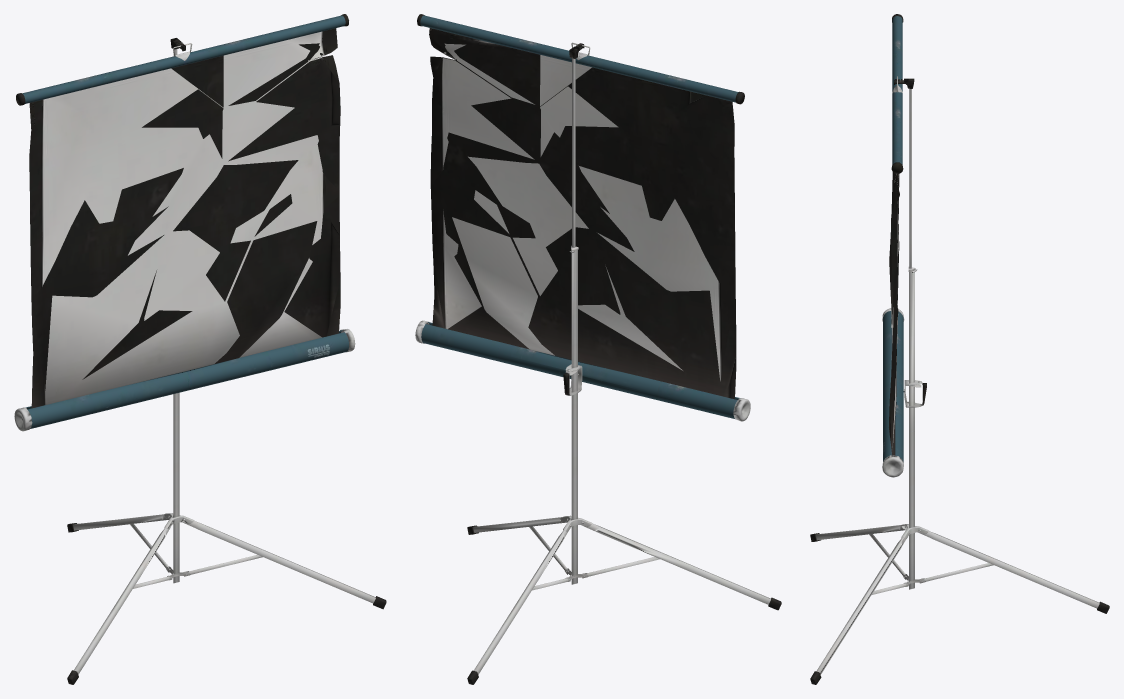
File: projector_screen.glb
3 renders of one model, left to right at view 1: azimuth 30°, elevation 25°; view 2: azimuth 150°, elevation 25°; view 3: azimuth 270°, elevation 25°, orthographic. The views are drawn at different scales.
Parts seen in each view (by area): view 1: projector_screen, projector_screen_frame; view 2: projector_screen, projector_screen_frame; view 3: projector_screen, projector_screen_frame.
Part boxes in pixels (x1,y1,x2,y2): projector_screen: (14,14,355,431); projector_screen_frame: (67,392,386,684); projector_screen: (415,14,750,421); projector_screen_frame: (467,245,781,684); projector_screen: (882,14,926,477); projector_screen_frame: (810,267,1109,684).
Bounding box in the file's own units: 1.09 × 1.8 × 0.9157.
Materials: 2 (2 with a texture image).
